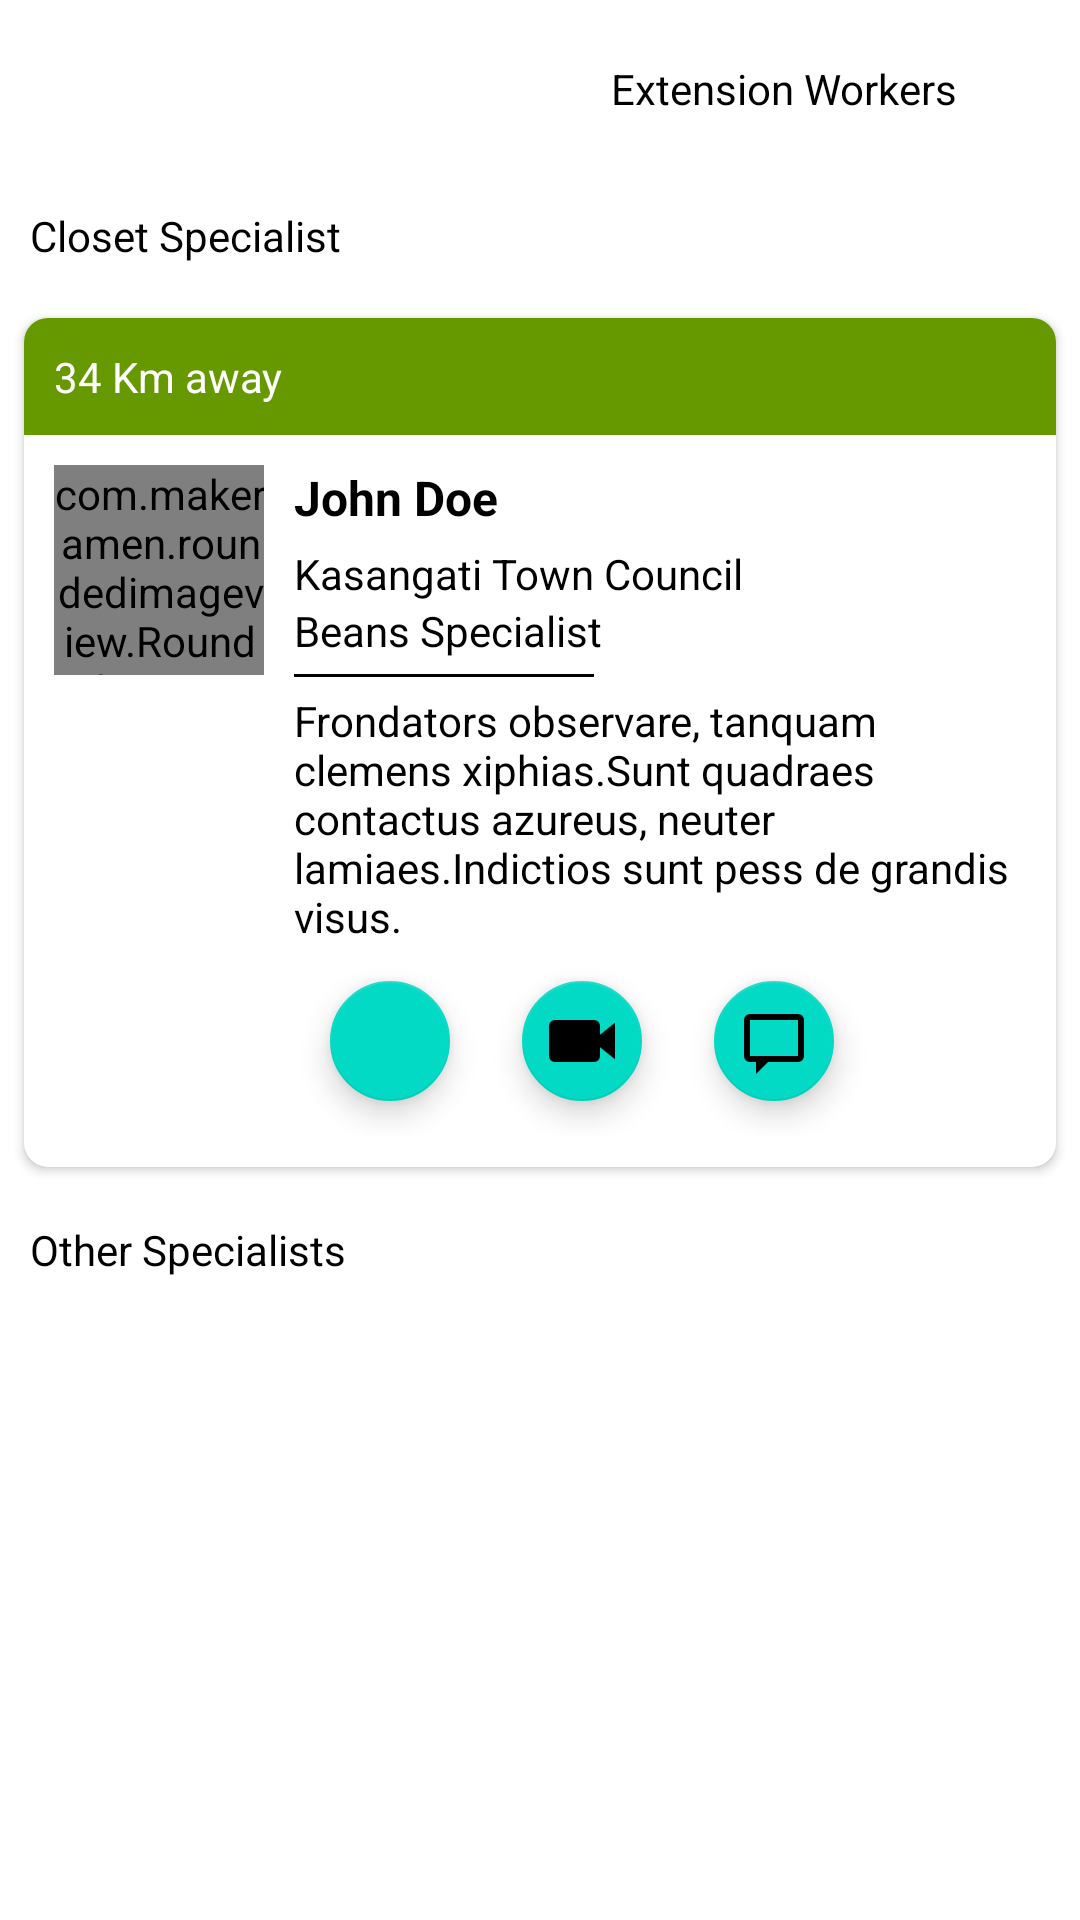

Icon click points for this 1080 x 1920 phone screenshot, format [x,y]:
video call: [582,1044]
